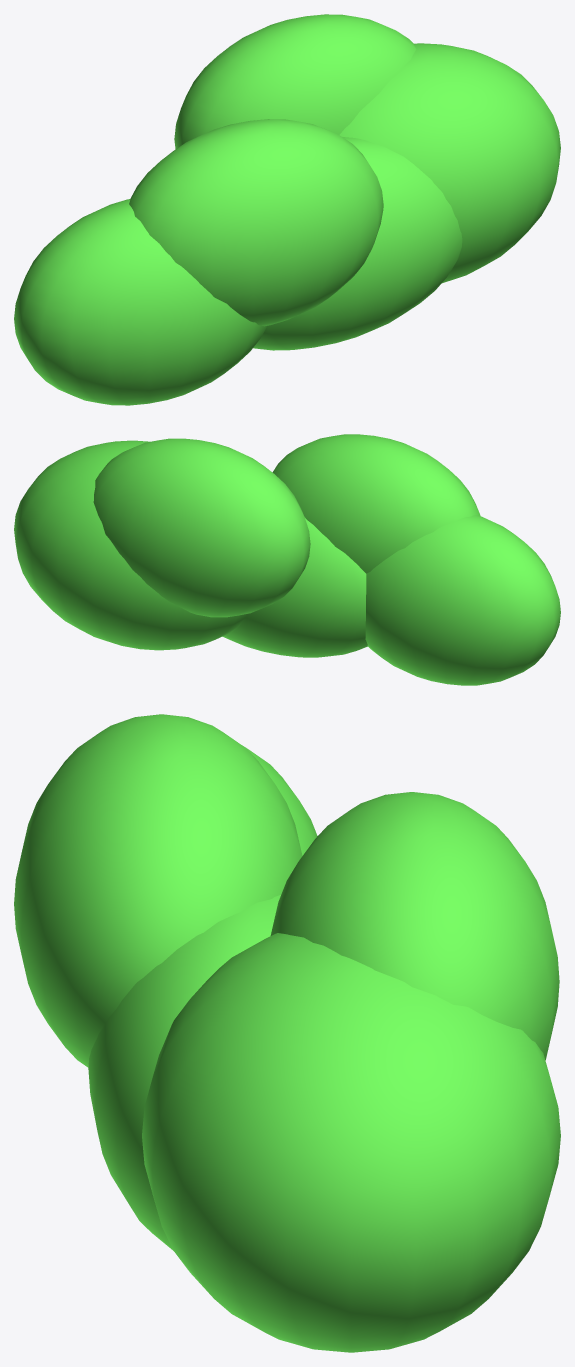
Rendered from bush2.obj.
3 views of the same model, one above another, from view 1: azimuth 30°, elevation 25°; view 2: azimuth 150°, elevation 25°; view 3: azimuth 270°, elevation 25° (orthographic). The views are drawn at different scales.
Parts seen in each view (by area): view 1: pSphere3, pSphere2, pSphere4, pSphere5, pSphere1; view 2: pSphere5, pSphere2, pSphere4, pSphere3, pSphere1; view 3: pSphere4, pSphere3, pSphere5, pSphere1, pSphere2.
Part boxes in pixels (box(x1,y1,x2,y2)): pSphere3: box(129, 119, 383, 326); pSphere2: box(14, 199, 266, 405); pSphere4: box(339, 43, 560, 283); pSphere5: box(174, 14, 416, 149); pSphere1: box(253, 137, 462, 350); pSphere5: box(93, 438, 310, 617); pSphere2: box(365, 515, 560, 685); pSphere4: box(14, 440, 247, 650); pSphere3: box(272, 434, 480, 573); pSphere1: box(222, 518, 367, 657); pSphere4: box(142, 933, 560, 1352); pSphere3: box(14, 714, 302, 1067); pSphere5: box(270, 792, 559, 1060); pSphere1: box(88, 895, 280, 1250); pSphere2: box(242, 745, 317, 855).
Bounding box in the file's own units: 7.53 × 3.33 × 3.7.
